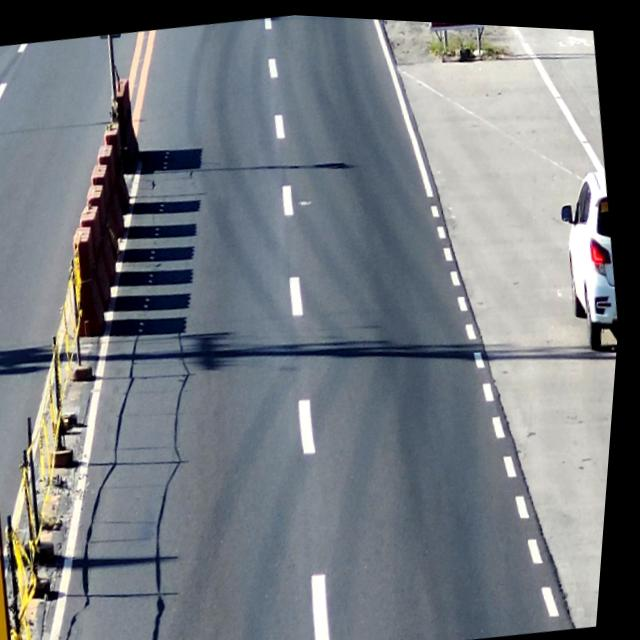Car: (547, 160, 632, 372)
